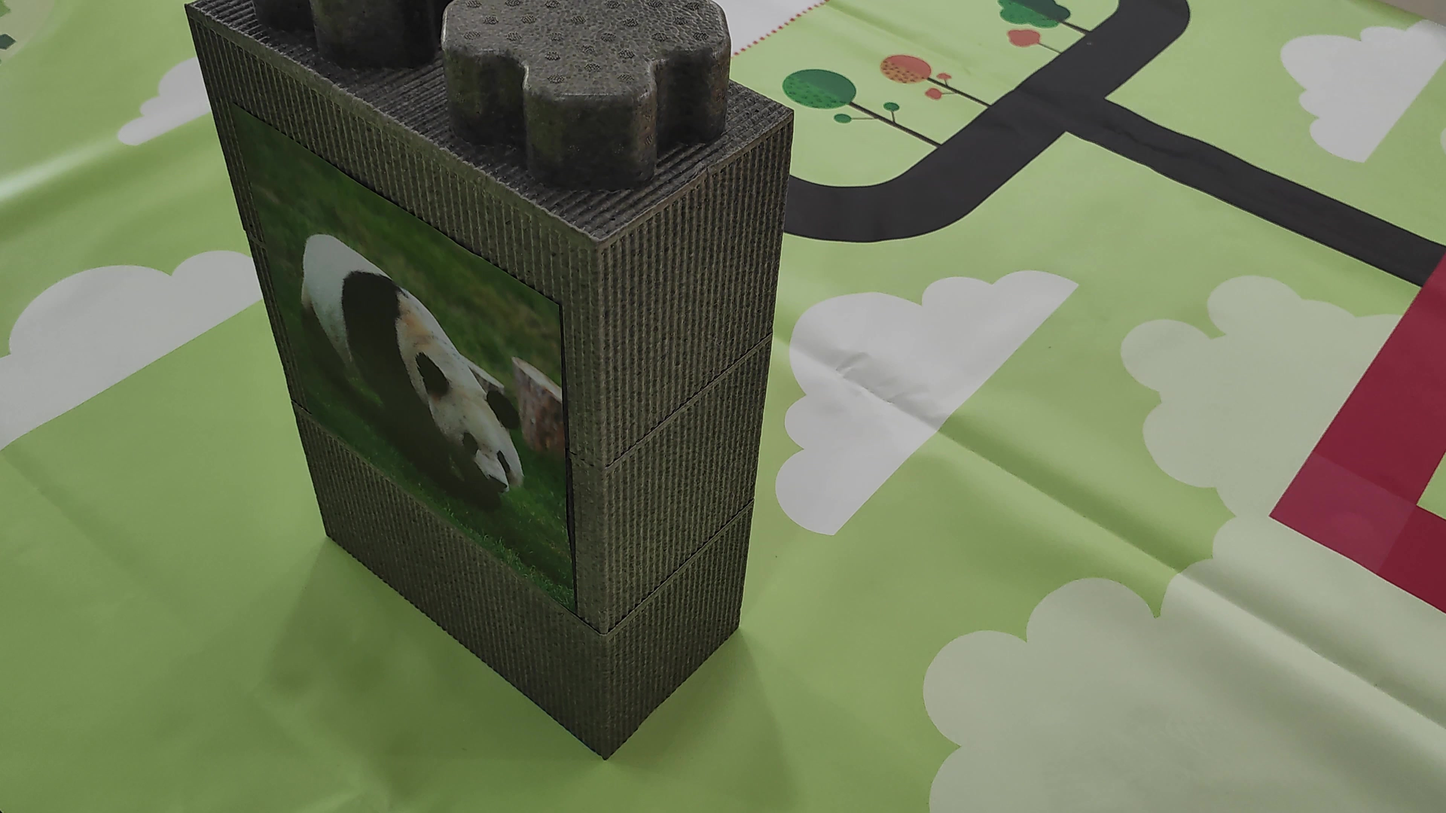panda: (254, 187, 531, 526)
